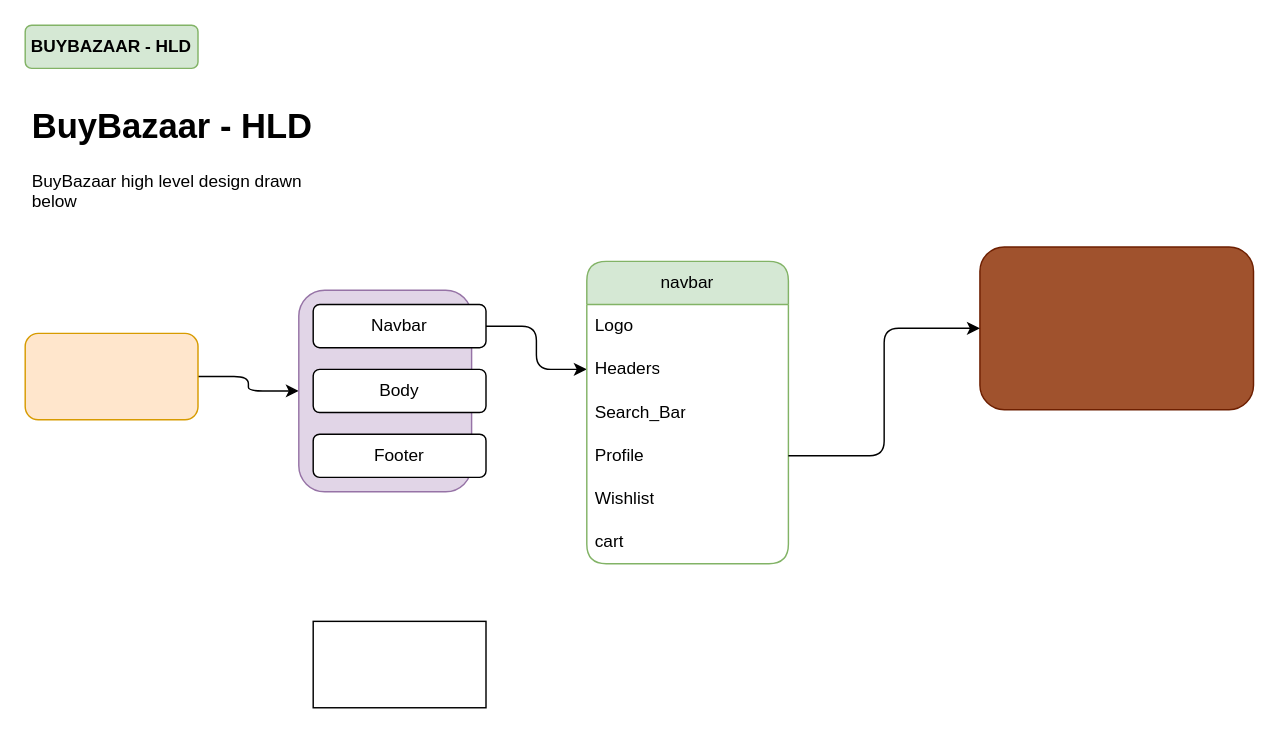
The diagram is 1279 pixels wide and 733 high, and some of its shapes have lost their labels. Each missing label, with the box of its shape:
carousel Recommended: (312, 620, 486, 708)
Landing Page: (24, 332, 198, 420)
login/signup my orders manage account if login then show logout: (978, 246, 1254, 410)
